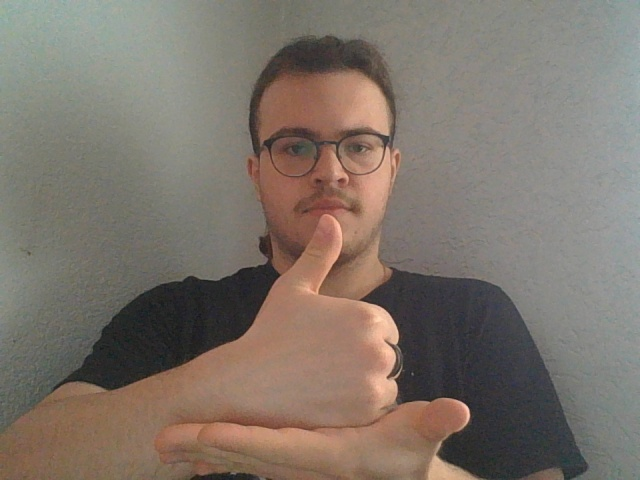Help: (155, 212, 473, 480)
